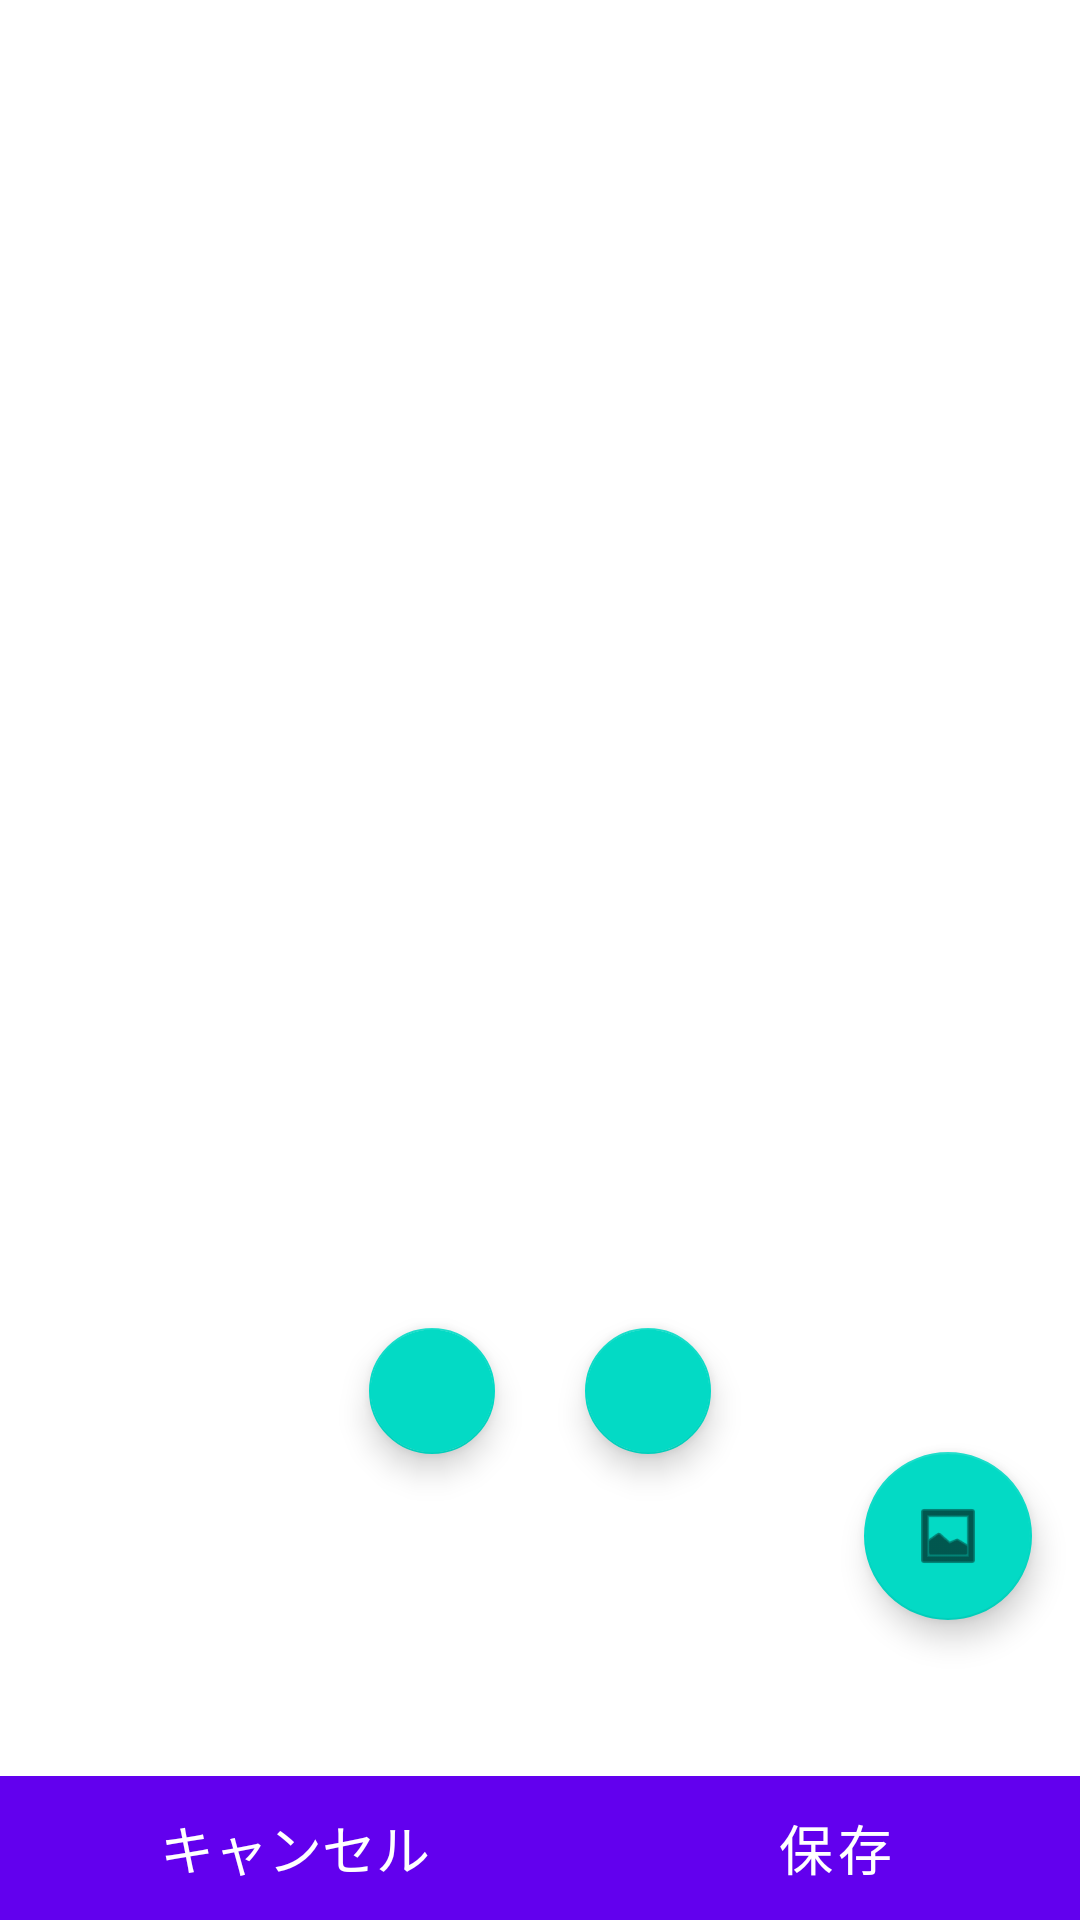

Where icons sit on this 1080×1920 app screen, as (x1, y1, x2, y2):
gallery: (864, 1452, 1032, 1620)
